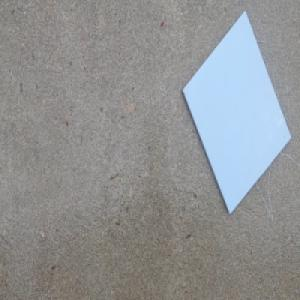PaintChip: (182, 10, 292, 215)
